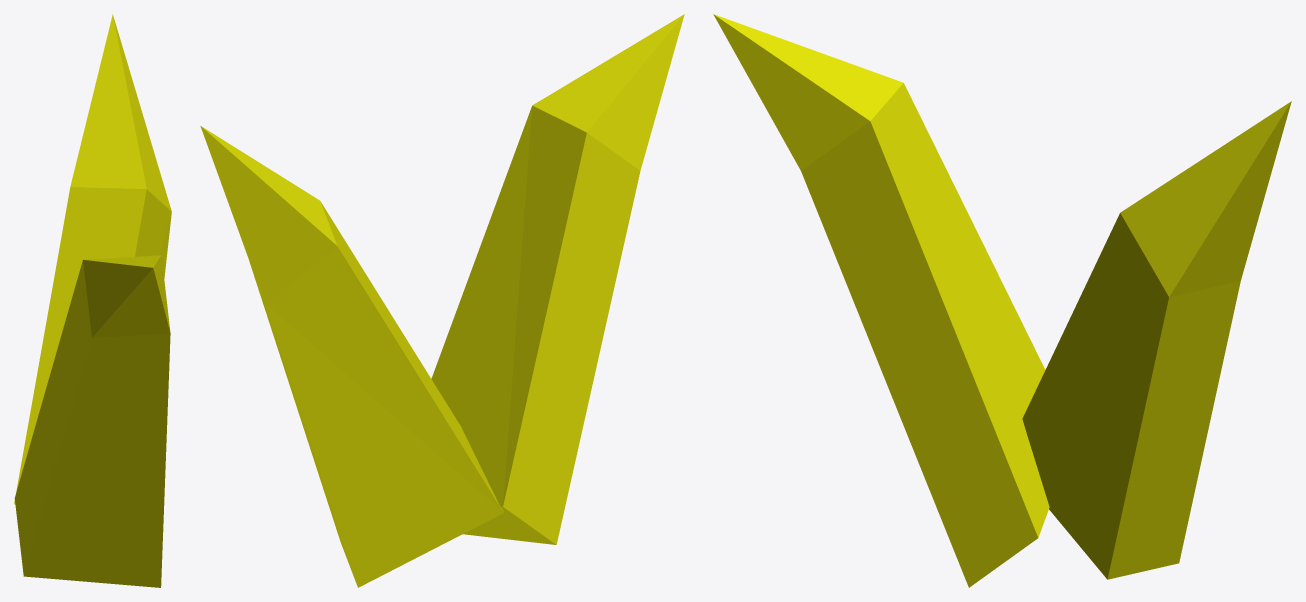
Rendered from SM_Env_Grass_02.glb.
3 views of the same model, side by side, from view 1: azimuth 30°, elevation 25°; view 2: azimuth 150°, elevation 25°; view 3: azimuth 270°, elevation 25° (orthographic). The views are drawn at different scales.
Visible parts, largest first — view 1: SM_Env_Grass_02; view 2: SM_Env_Grass_02; view 3: SM_Env_Grass_02.
Part boxes in pixels (x1=…): SM_Env_Grass_02: x1=14, y1=14, x2=171, y2=587; SM_Env_Grass_02: x1=200, y1=14, x2=684, y2=587; SM_Env_Grass_02: x1=713, y1=14, x2=1291, y2=587.
Bounding box in the file's own units: 0.178 × 0.3489 × 0.3402.
1 material, 1 textured.
